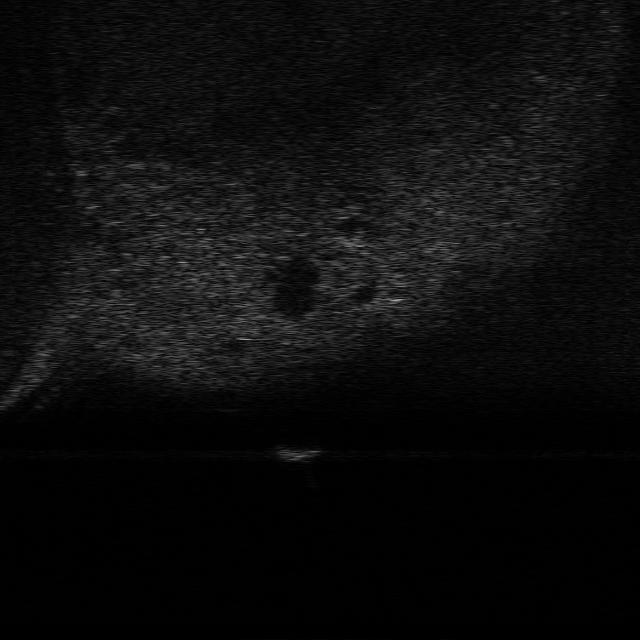cube: (276, 442, 326, 465)
